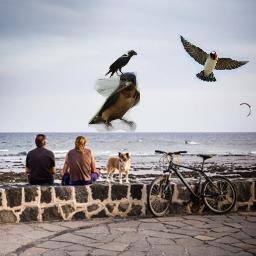Crow: (103, 49, 137, 78)
Swallow: (179, 34, 249, 82), (88, 72, 140, 132)
